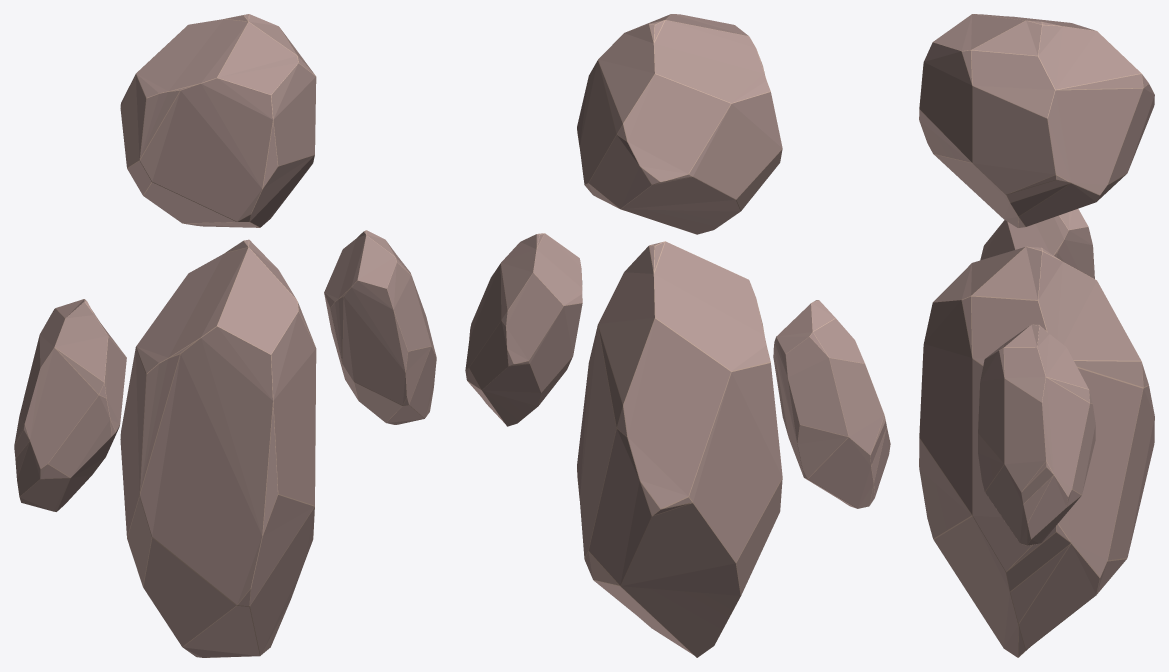
File: ElementalEarth.fbx
3 renders of one model, left to right at view 1: azimuth 30°, elevation 25°; view 2: azimuth 150°, elevation 25°; view 3: azimuth 270°, elevation 25°, orthographic. The views are drawn at different scales.
Parts seen in each view (by area): view 1: Body, Head, ArmRight, ArmLeft; view 2: Body, Head, ArmRight, ArmLeft; view 3: Body, Head, ArmLeft, ArmRight.
Part boxes in pixels (x1,y1,x2,y2): Body: [120, 239, 316, 657]; Head: [120, 14, 316, 227]; ArmRight: [14, 299, 126, 511]; ArmLeft: [324, 230, 436, 424]; Body: [577, 241, 782, 657]; Head: [577, 14, 782, 234]; ArmRight: [773, 300, 890, 508]; ArmLeft: [465, 233, 582, 426]; Body: [919, 246, 1154, 657]; Head: [919, 14, 1154, 228]; ArmLeft: [978, 324, 1095, 545]; ArmRight: [980, 209, 1094, 278].
Bounding box in the file's own units: 398 × 582 × 196.
